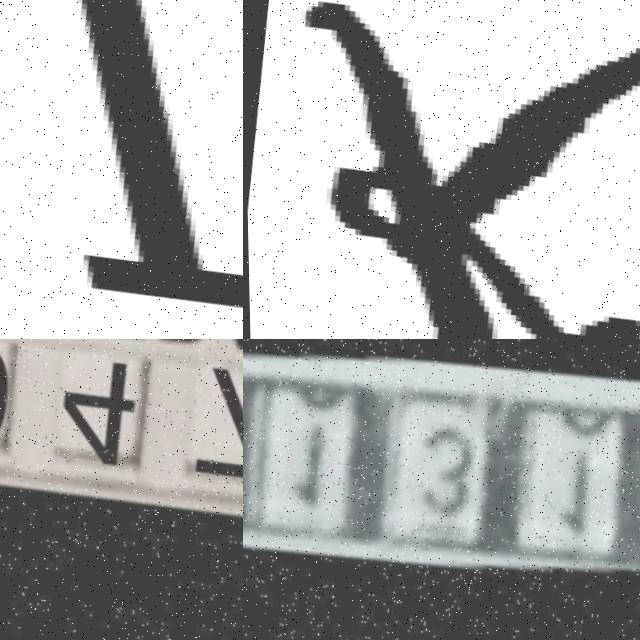0: (0, 339, 31, 468)
1: (537, 444, 616, 543), (273, 415, 338, 513)
3: (400, 425, 479, 528)
4: (30, 342, 155, 485)
7: (163, 350, 243, 495)
D: (0, 0, 243, 339)
K: (303, 0, 640, 339)
